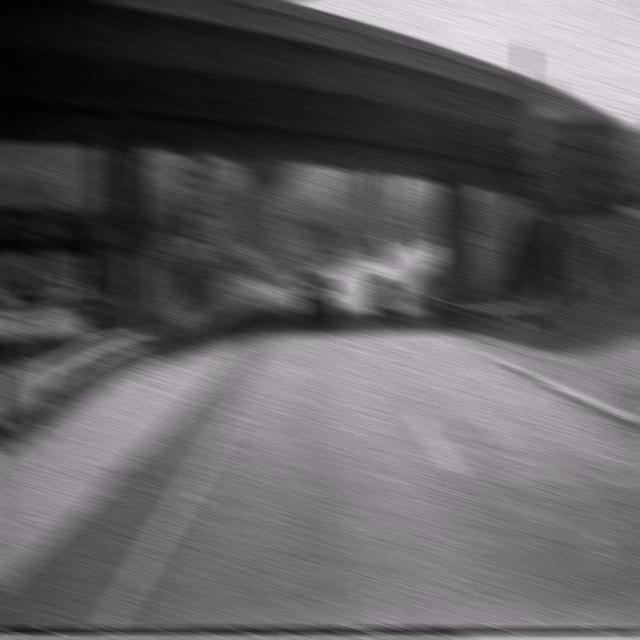speedLimit45: (185, 160, 227, 243)
